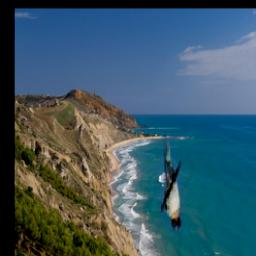Swallow: (162, 137, 182, 232)
